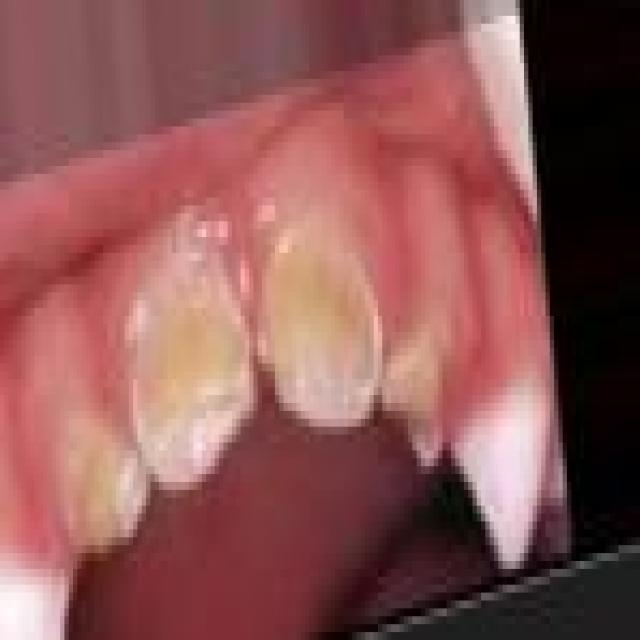caries: (127, 241, 257, 490), (255, 218, 383, 440), (389, 318, 448, 481)
